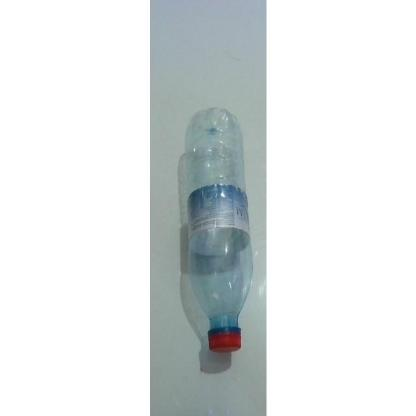Plastic Bottle: (187, 108, 253, 354)
